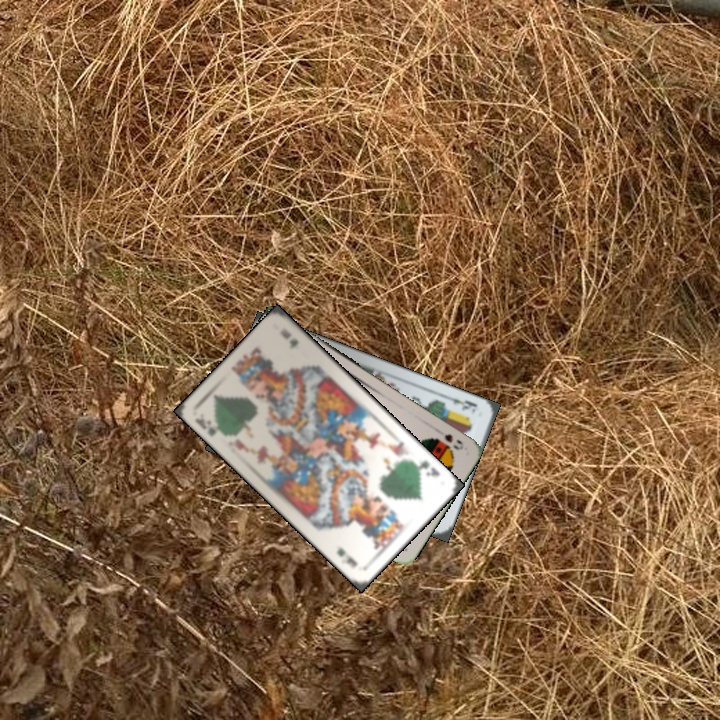EK: (442, 391, 479, 416)
GK: (191, 414, 227, 439), (409, 456, 443, 479)
SO: (441, 430, 466, 453)
